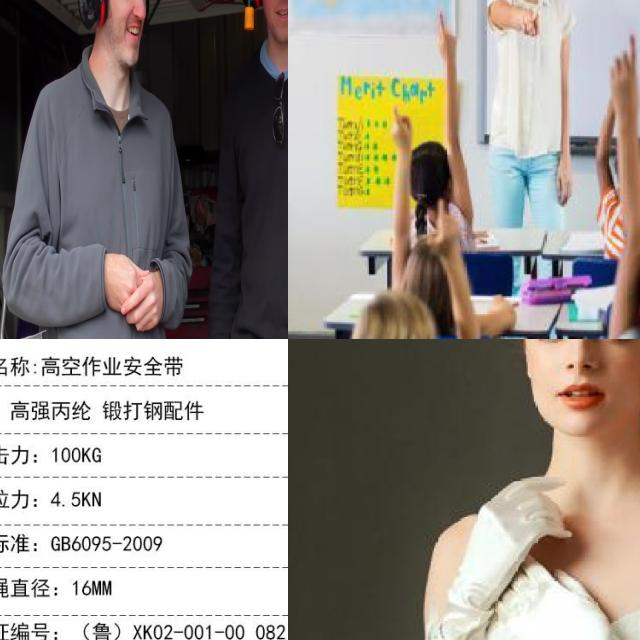Ear-protection: (77, 0, 107, 36), (241, 0, 264, 17)
No_Glasses: (519, 339, 640, 355)
face_nomask: (520, 339, 640, 437)
hand_glove: (448, 474, 578, 598), (487, 553, 623, 640)
hand_noglove: (606, 31, 638, 114), (424, 198, 458, 252), (488, 294, 516, 332), (437, 7, 457, 59), (389, 100, 412, 140), (555, 162, 572, 205), (520, 7, 538, 38)
head_nohelmet: (354, 282, 443, 339), (412, 133, 462, 213), (609, 142, 640, 206)
person: (401, 339, 640, 640), (25, 0, 186, 339), (195, 0, 288, 339), (487, 0, 581, 227)
